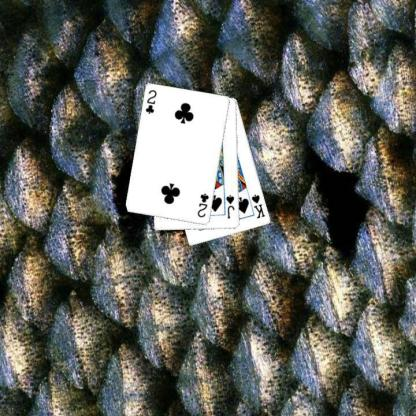2C: (144, 87, 158, 116), (196, 191, 210, 219)
JS: (224, 192, 235, 220)
KS: (249, 192, 266, 219)
